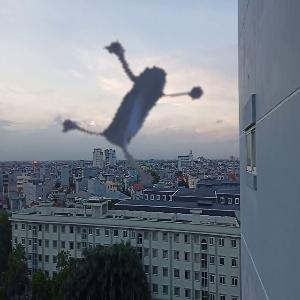drone: (33, 3, 253, 223)
